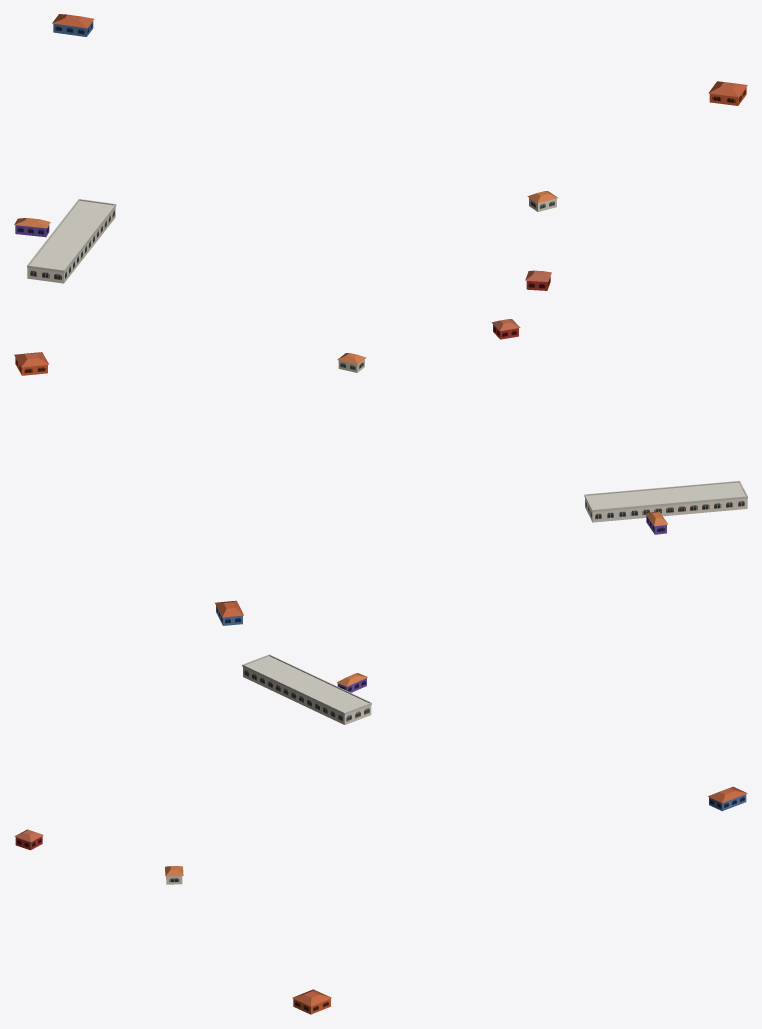
File: msb_oranjestad_m21_m4.glb
The picture shows the model from 3 angles, top to bottom: view 1: azimuth 30°, elevation 25°; view 2: azimuth 150°, elevation 25°; view 3: azimuth 270°, elevation 25°; orthographic projection. The views are drawn at different scales.
Visible parts, largest first — view 1: msb_oranjestad_m21_m4_lod0; view 2: msb_oranjestad_m21_m4_lod0; view 3: msb_oranjestad_m21_m4_lod0.
Part boxes in pixels (x1,y1,x2,y2): msb_oranjestad_m21_m4_lod0: [14, 14, 747, 290]; msb_oranjestad_m21_m4_lod0: [14, 319, 747, 625]; msb_oranjestad_m21_m4_lod0: [14, 654, 747, 1014].
Size of what is drawn, in the model's own units: 289 by 10.17 by 267.
Materials: 3 (1 with a texture image).
